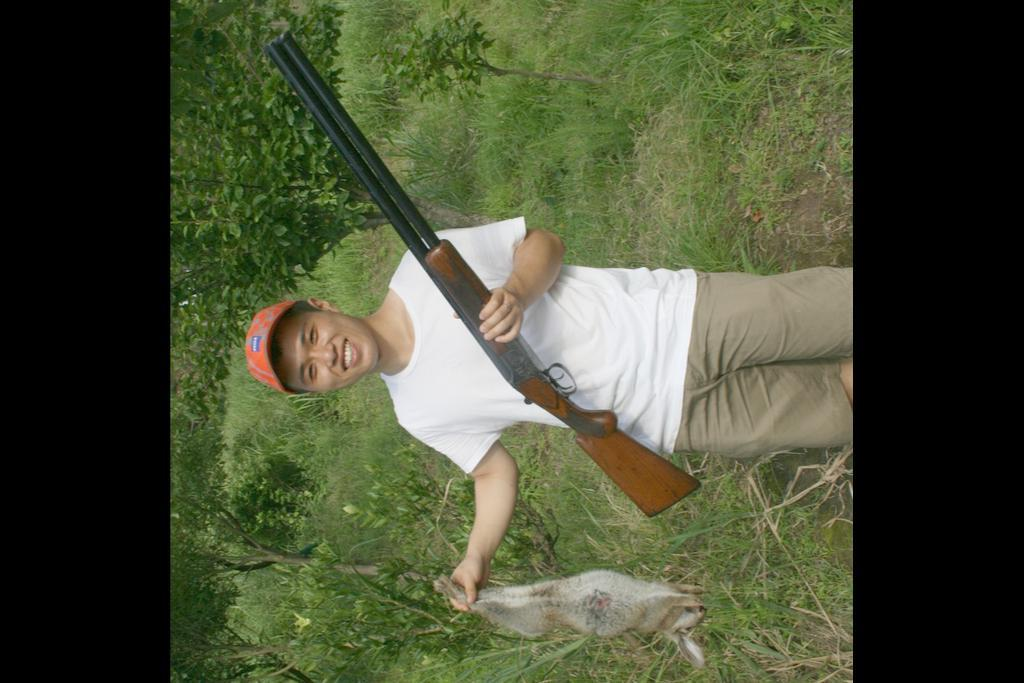gun: (270, 30, 686, 504)
